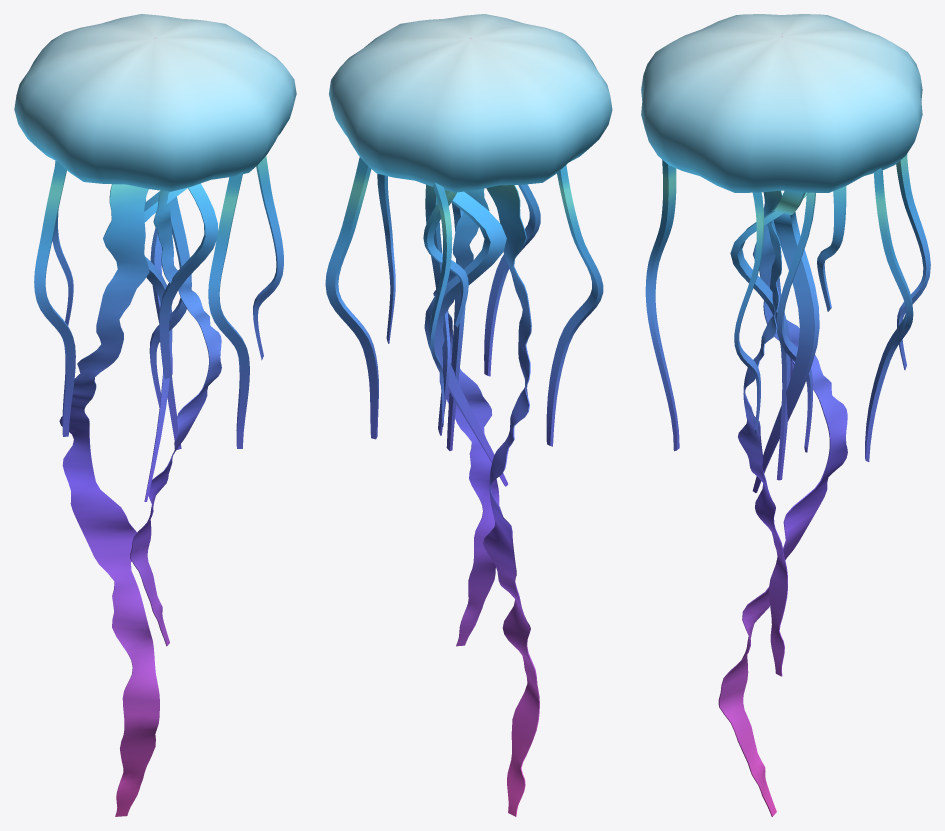
Rendered from JellyFish05.fbx.
3 views of the same model, side by side, from view 1: azimuth 30°, elevation 25°; view 2: azimuth 150°, elevation 25°; view 3: azimuth 270°, elevation 25° (orthographic). The views are drawn at different scales.
Visible parts, largest first — view 1: JellyFish05; view 2: JellyFish05; view 3: JellyFish05.
Part boxes in pixels (x1,y1,x2,y2): JellyFish05: (14,14,296,816); JellyFish05: (325,14,612,816); JellyFish05: (641,14,930,816).
Size of the model in its own units: 0.4289 by 1.29 by 0.4249.
Materials: 1 (1 with a texture image).
